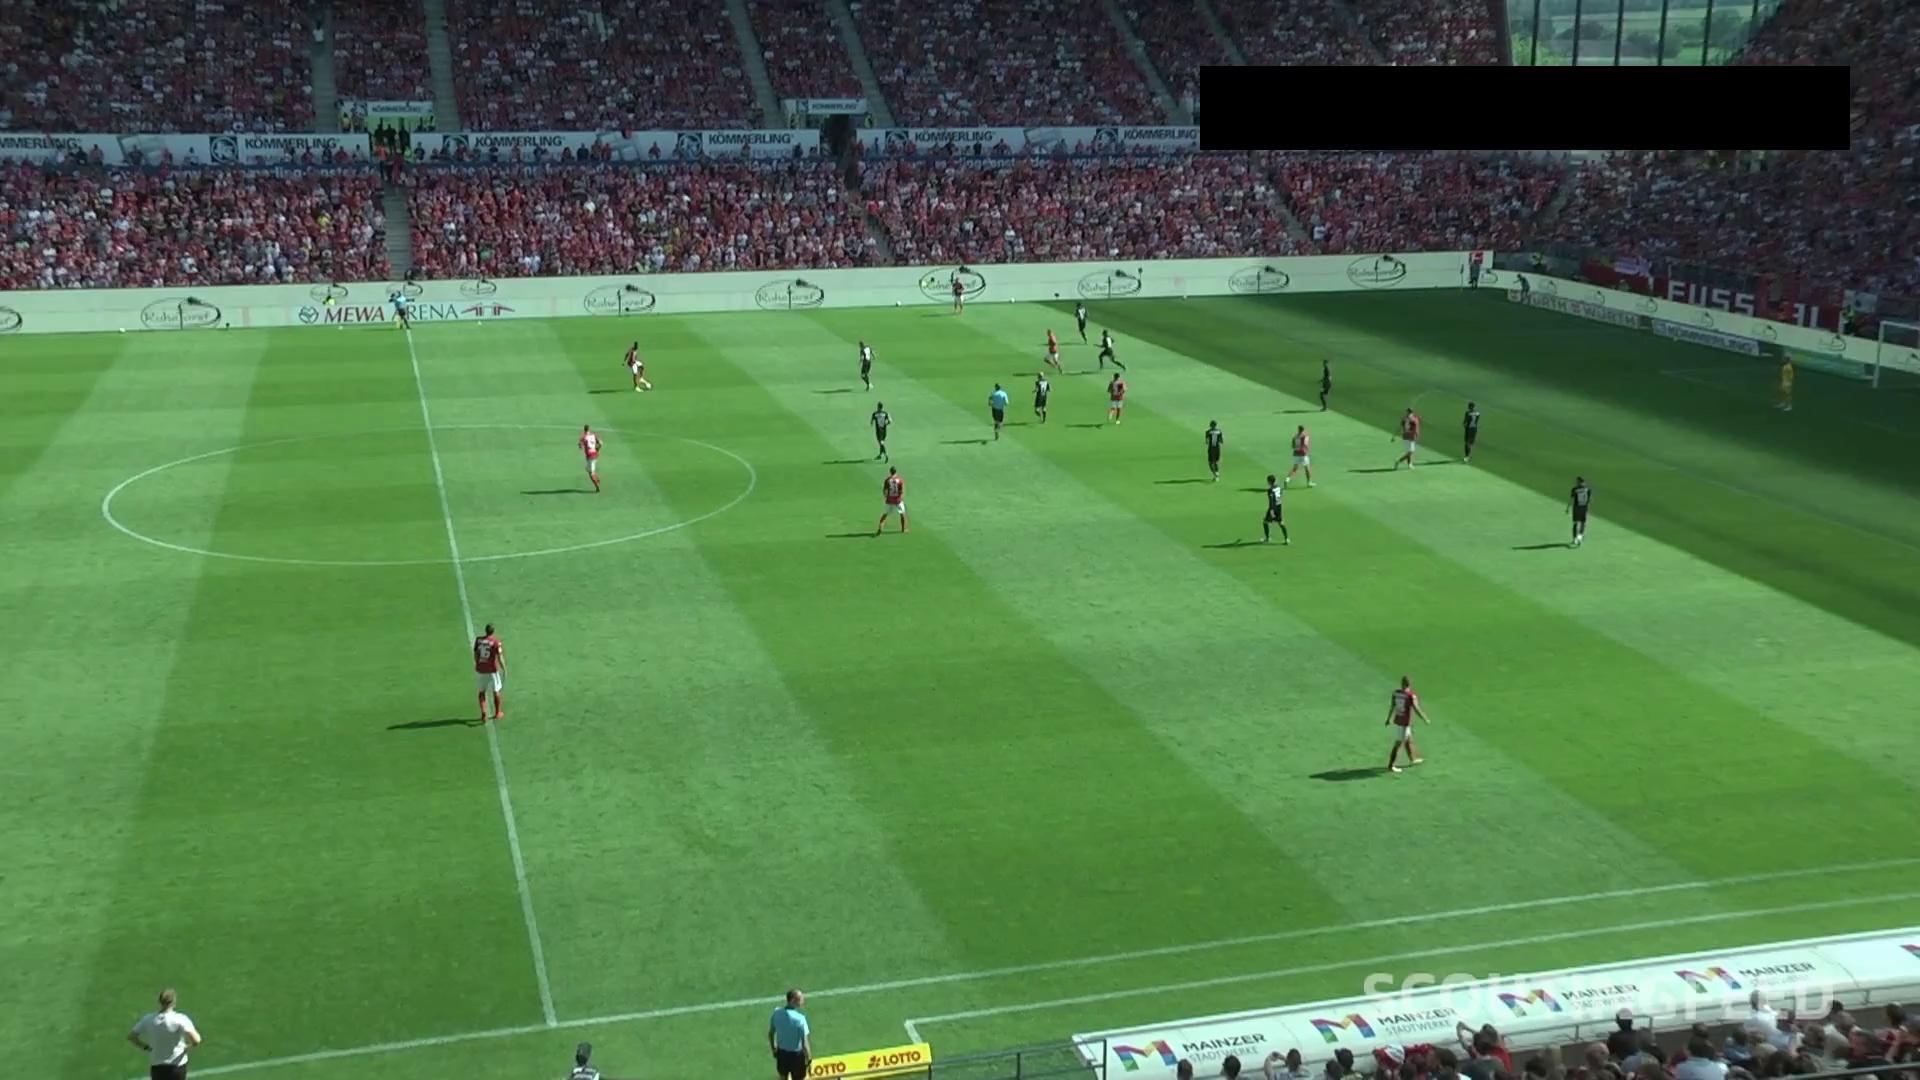Location-of-ball: (641, 377, 659, 397)
